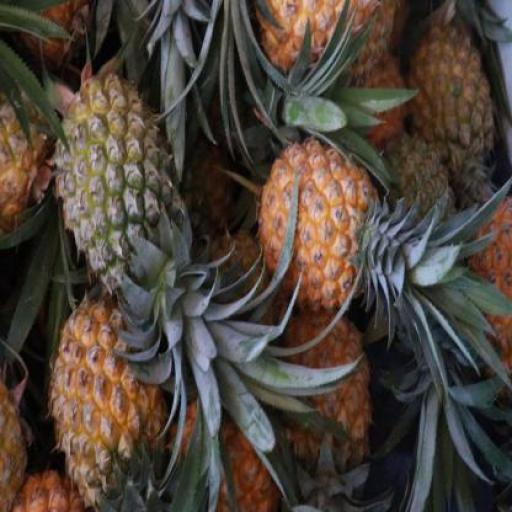------------------------------: (54, 67, 185, 290)
Pineapple - v8 v1: (48, 296, 166, 494), (259, 139, 379, 324)
